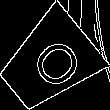O_SW: (16, 30, 81, 95)
